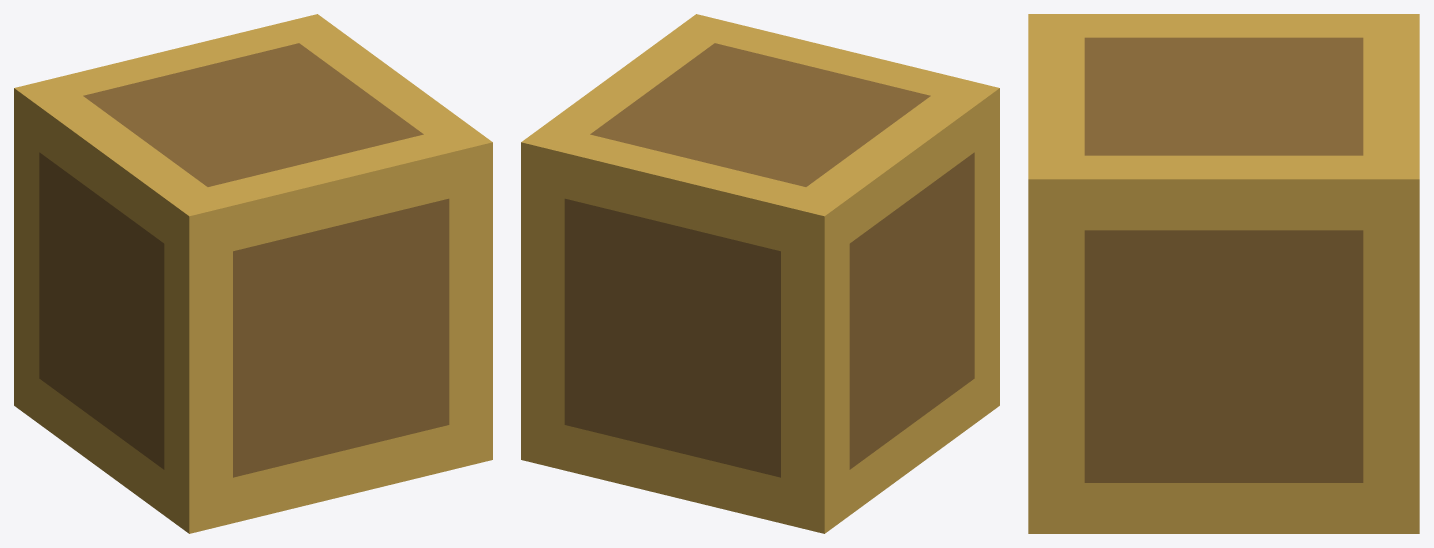
The model's file is crate1.FBX.
3 views of the same model, side by side, from view 1: azimuth 30°, elevation 25°; view 2: azimuth 150°, elevation 25°; view 3: azimuth 270°, elevation 25° (orthographic). The views are drawn at different scales.
Visible parts, largest first — view 1: crate1; view 2: crate1; view 3: crate1.
Boxes of the visible parts, bbox=[...] form: crate1: bbox=[14, 14, 492, 533]; crate1: bbox=[521, 14, 999, 533]; crate1: bbox=[1028, 14, 1419, 533].
Bounding box in the file's own units: 2 × 2 × 2.
